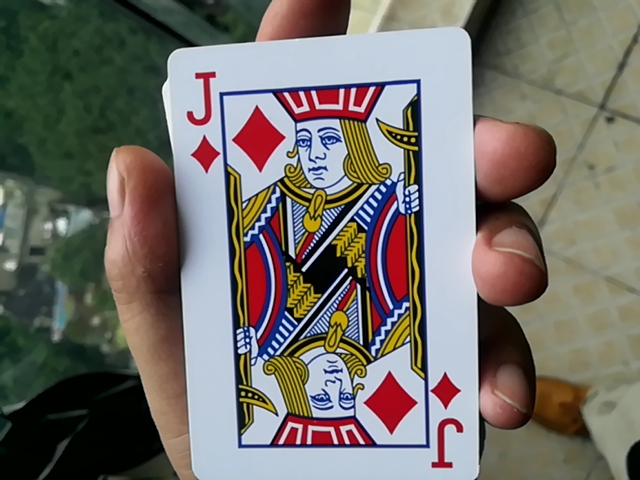fk j: (145, 34, 480, 478)
